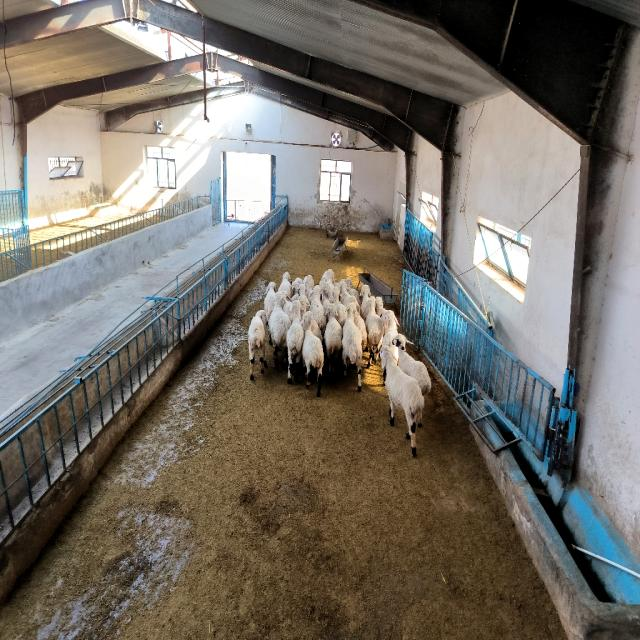sheep: (380, 345, 424, 456), (392, 333, 431, 396), (341, 303, 362, 391), (302, 312, 324, 396), (269, 290, 291, 366), (286, 300, 304, 382), (248, 310, 268, 379), (365, 297, 384, 366), (324, 305, 342, 372), (348, 297, 368, 350), (381, 310, 398, 361), (310, 285, 326, 332), (332, 287, 346, 327), (264, 282, 276, 318), (360, 285, 371, 320), (279, 272, 292, 298), (299, 285, 310, 314), (381, 353, 386, 384)
